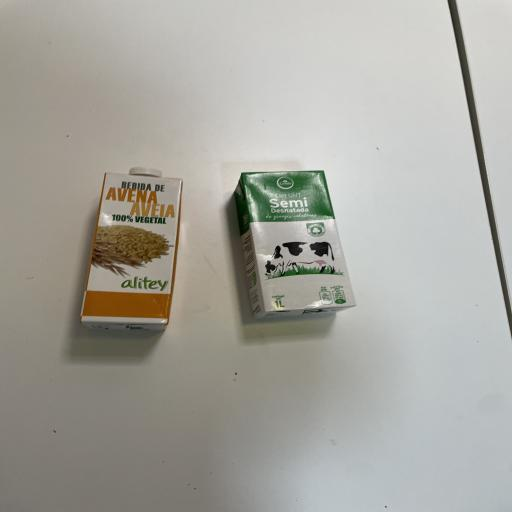milk: (225, 161, 359, 326)
oat_milk: (69, 160, 195, 340)
